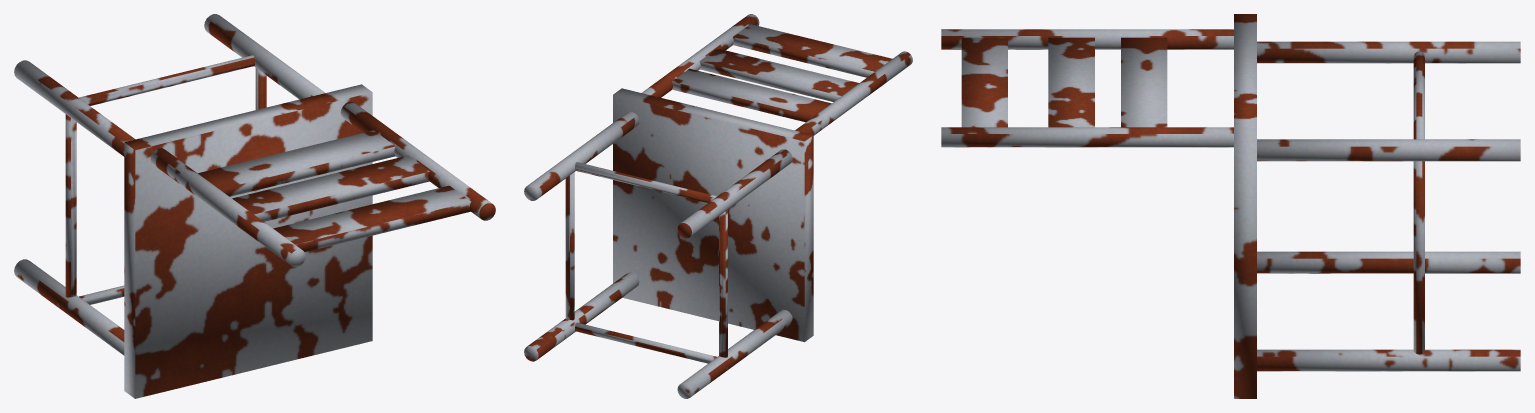
File: wooden_chair_textured.glb
The picture shows the model from 3 angles, left to right: view 1: azimuth 30°, elevation 25°; view 2: azimuth 150°, elevation 25°; view 3: azimuth 270°, elevation 25°; orthographic projection. The views are drawn at different scales.
Visible parts, largest first — view 1: wooden_chair_unwrapped.obj; view 2: wooden_chair_unwrapped.obj; view 3: wooden_chair_unwrapped.obj.
Part boxes in pixels (box(x1,y1,x2,y2)): wooden_chair_unwrapped.obj: box(14, 14, 495, 398); wooden_chair_unwrapped.obj: box(524, 14, 912, 398); wooden_chair_unwrapped.obj: box(941, 14, 1520, 398).
Size of the model in its own units: 1 by 1 by 2.
1 material, 1 textured.
